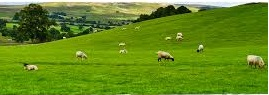sheep: (247, 52, 267, 69), (154, 48, 173, 63), (72, 50, 87, 62), (22, 61, 37, 73), (173, 32, 186, 43), (194, 44, 205, 56), (162, 35, 171, 42), (118, 41, 128, 47), (119, 48, 128, 54)
